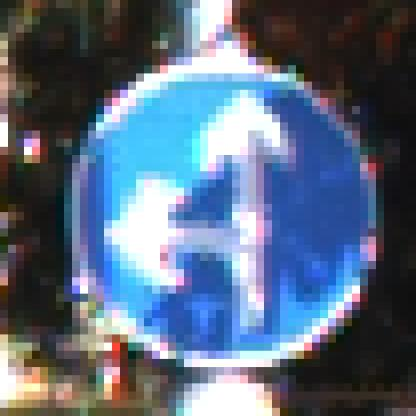Straight or Left: (49, 50, 377, 376)
